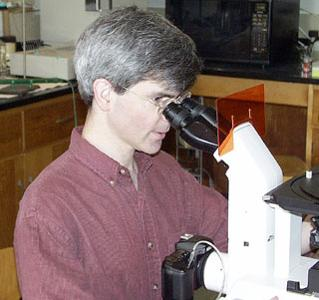person: (14, 7, 230, 296)
